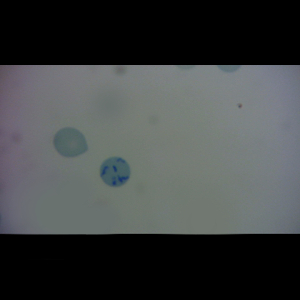aggregate reticulocyte: (99, 156, 132, 188)
erythrocyte: (52, 127, 91, 158)
